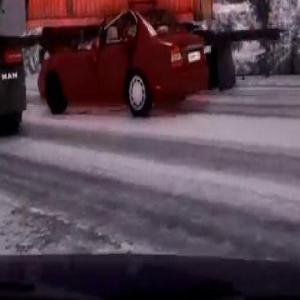severe: (0, 0, 221, 125)
